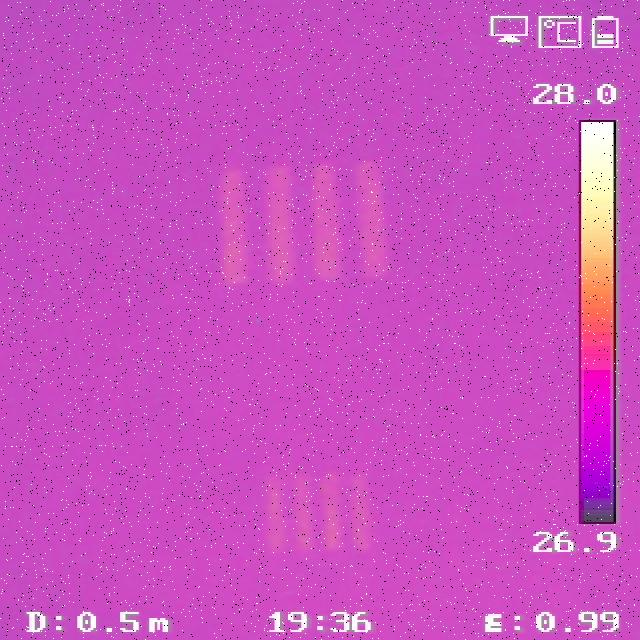Distinguishable 4-bar target: (220, 158, 391, 288)
threshold 4-bar target: (263, 469, 372, 549)
